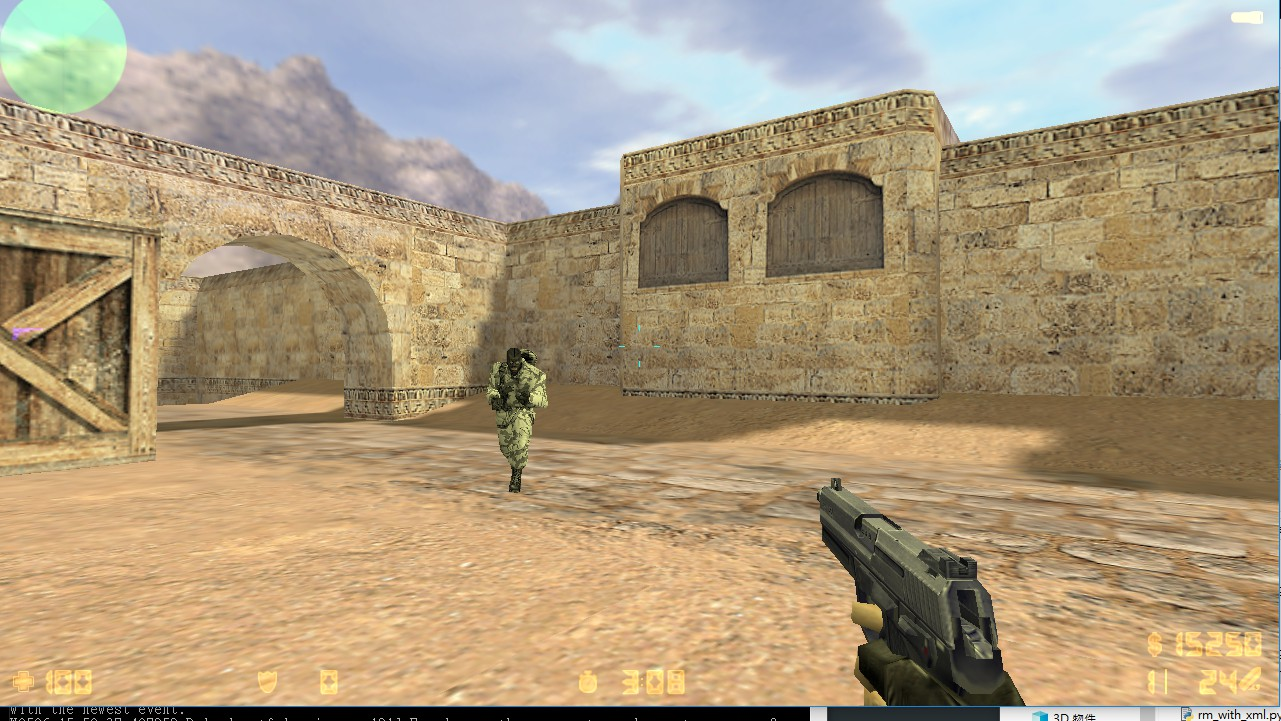person: (479, 343, 556, 505)
